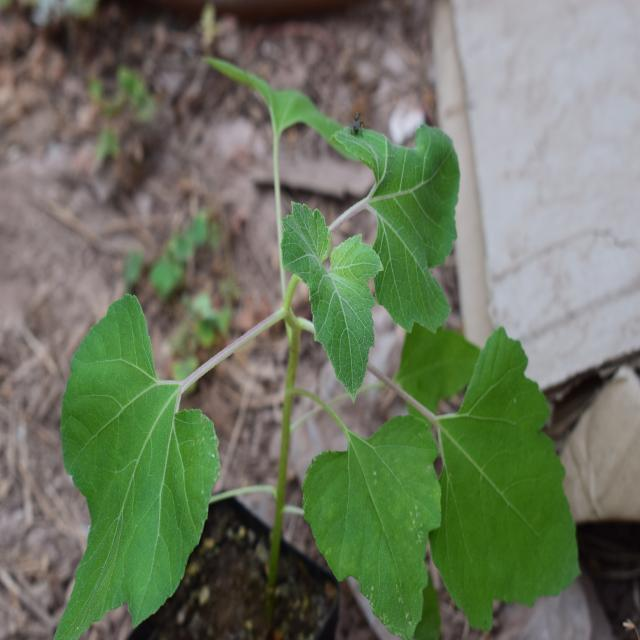cocklebur: (49, 82, 590, 618)
